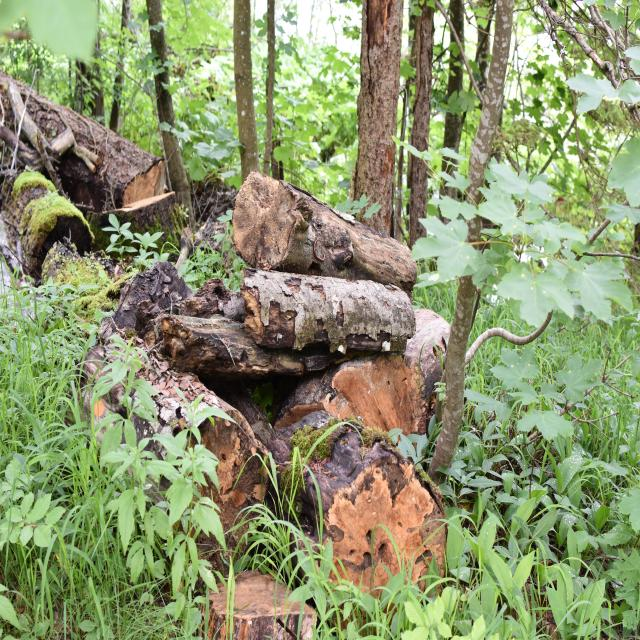restos de madeira: (320, 428, 440, 623), (6, 69, 160, 205), (234, 169, 391, 287), (246, 270, 400, 350), (0, 178, 97, 296), (76, 340, 172, 458), (322, 338, 430, 440), (184, 395, 260, 538), (97, 260, 198, 358), (249, 409, 334, 515), (145, 379, 225, 466), (214, 570, 312, 640), (0, 61, 63, 168), (94, 193, 187, 257), (93, 152, 170, 218), (161, 324, 249, 376), (274, 365, 340, 426), (414, 310, 453, 410), (217, 338, 309, 377), (176, 214, 228, 268)
